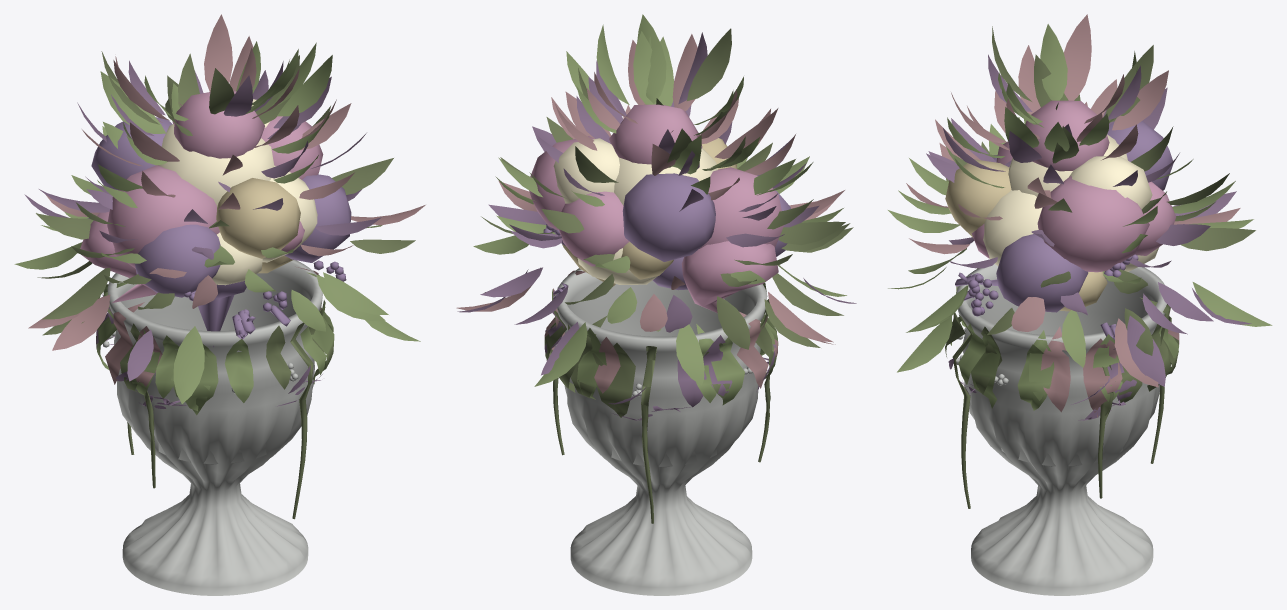
The model's file is hollow_vase.glb.
The picture shows the model from 3 angles, left to right: view 1: azimuth 30°, elevation 25°; view 2: azimuth 150°, elevation 25°; view 3: azimuth 270°, elevation 25°; orthographic projection. The views are drawn at different scales.
Visible parts, largest first — view 1: Urn, Leaves_sage, Flowers_mauve, Leaves_rose, Leaves_olive, Flowers_purple, Leaves_dusk, Flowers_cream, Flowers_tan, Vines, Berries; view 2: Urn, Flowers_mauve, Leaves_sage, Leaves_olive, Leaves_rose, Leaves_dusk, Flowers_purple, Flowers_cream, Vines, Flowers_tan; view 3: Urn, Leaves_sage, Leaves_rose, Flowers_mauve, Leaves_dusk, Leaves_olive, Flowers_cream, Flowers_purple, Flowers_tan, Vines, Berries.
Part boxes in pixels (x1=…): Urn: x1=107, y1=260, x2=322, y2=595; Leaves_sage: x1=14, y1=41, x2=420, y2=415; Flowers_mauve: x1=80, y1=91, x2=323, y2=303; Leaves_rose: x1=28, y1=14, x2=425, y2=386; Leaves_olive: x1=36, y1=51, x2=415, y2=392; Flowers_purple: x1=91, y1=117, x2=351, y2=347; Leaves_dusk: x1=24, y1=60, x2=381, y2=408; Flowers_cream: x1=158, y1=99, x2=317, y2=285; Flowers_tan: x1=216, y1=178, x2=300, y2=273; Vines: x1=127, y1=322, x2=313, y2=519; Berries: x1=183, y1=260, x2=346, y2=339; Urn: x1=556, y1=268, x2=766, y2=595; Flowers_mauve: x1=529, y1=104, x2=784, y2=312; Leaves_sage: x1=473, y1=14, x2=846, y2=405; Leaves_olive: x1=481, y1=28, x2=853, y2=417; Leaves_rose: x1=456, y1=34, x2=844, y2=393; Leaves_dusk: x1=457, y1=32, x2=856, y2=420; Flowers_purple: x1=622, y1=173, x2=790, y2=290; Flowers_cream: x1=553, y1=138, x2=717, y2=284; Vines: x1=548, y1=295, x2=771, y2=523; Flowers_tan: x1=561, y1=134, x2=737, y2=286; Urn: x1=956, y1=264, x2=1166, y2=595; Leaves_sage: x1=888, y1=24, x2=1272, y2=410; Leaves_rose: x1=906, y1=14, x2=1240, y2=417; Flowers_mauve: x1=971, y1=100, x2=1176, y2=272; Leaves_dusk: x1=926, y1=54, x2=1251, y2=420; Leaves_olive: x1=945, y1=26, x2=1255, y2=402; Flowers_cream: x1=983, y1=134, x2=1158, y2=271; Flowers_purple: x1=979, y1=121, x2=1173, y2=312; Flowers_tan: x1=945, y1=159, x2=1107, y2=311; Vines: x1=952, y1=315, x2=1171, y2=508; Berries: x1=955, y1=254, x2=1138, y2=339.
Size of the model in its own units: 2.03 by 2.74 by 1.86.
